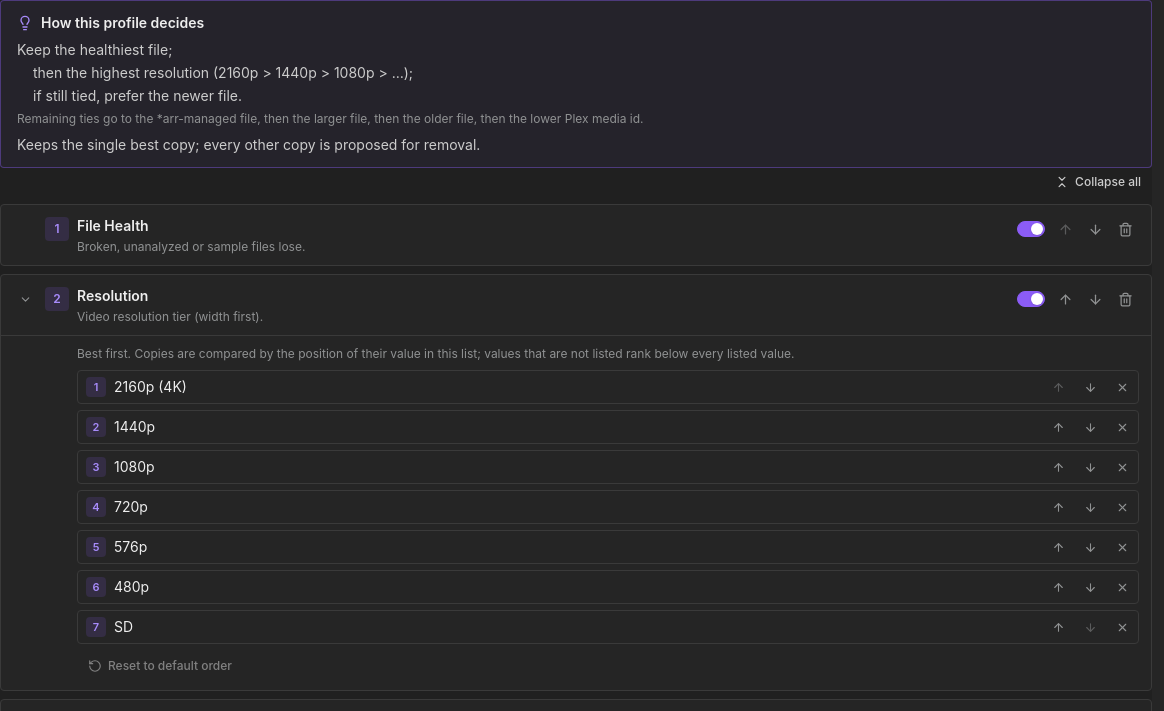
Scenario: <CriteriaBuilder> › ordered editor › reorders values and resets to the default order
The image size is (1164, 711).
Expected: the button "Reset to default order" is disabled, [77,652,243,680]
Click the button named "Move 1080p up".
click(1058, 467)  # box [1046,455,1070,479]
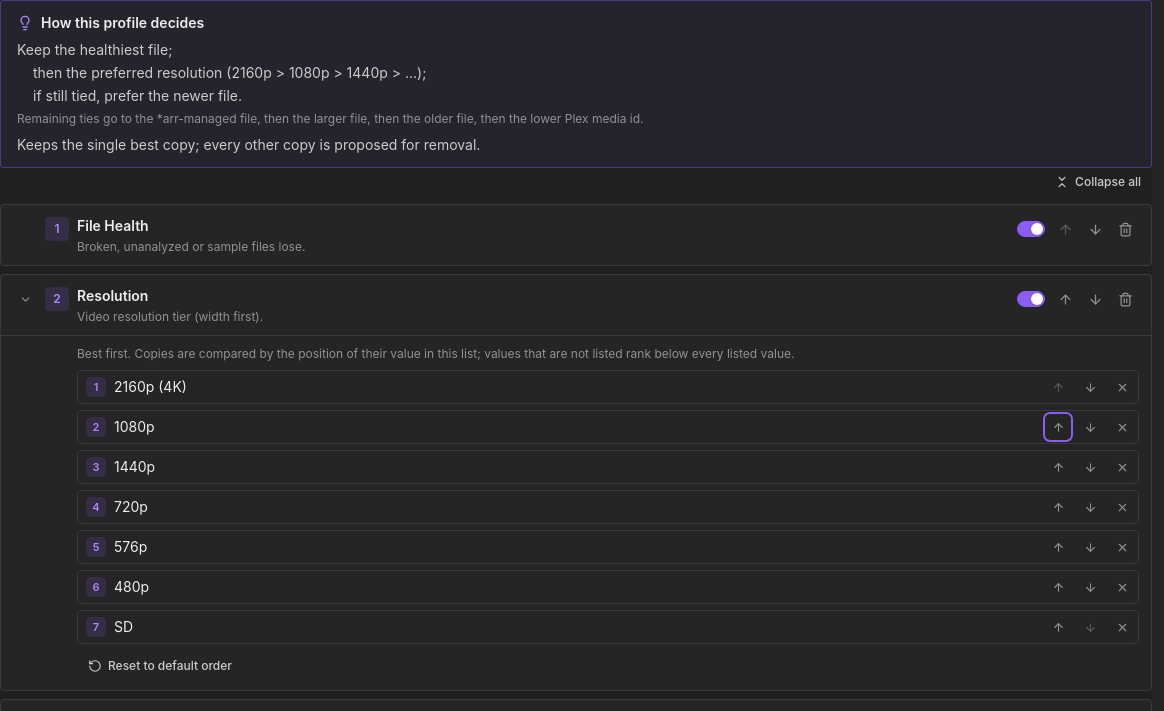
Click the button named "Move 1080p up".
click(1058, 427)  # box [1046,415,1070,439]
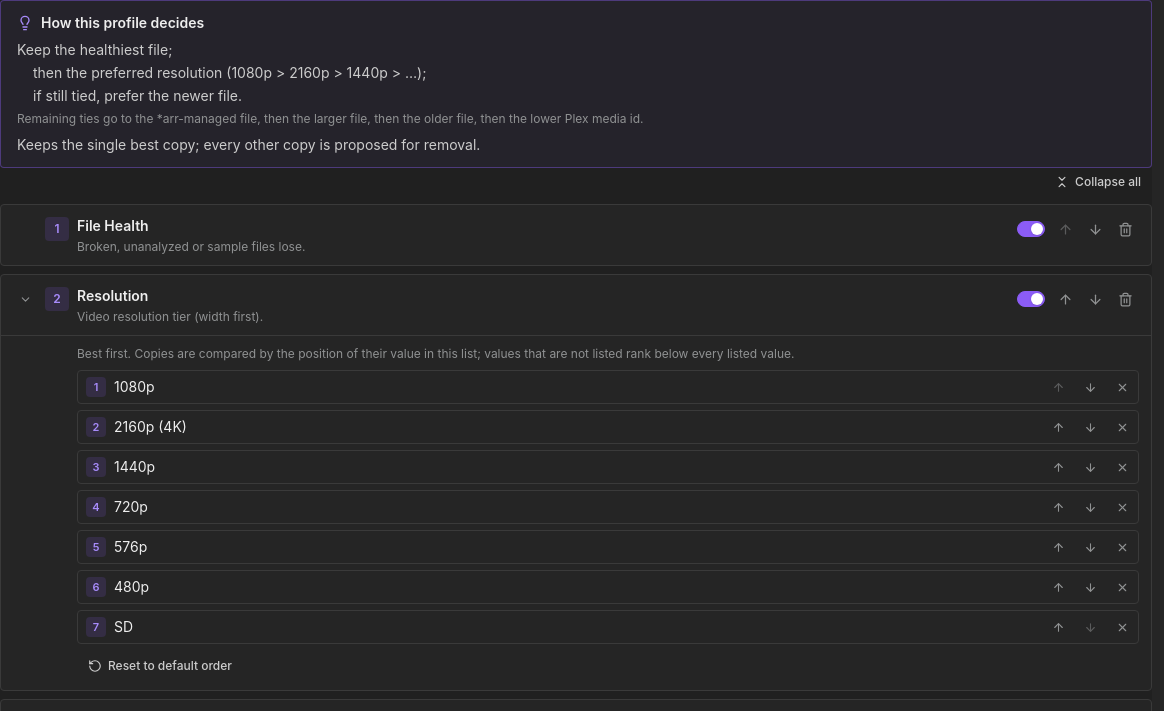
Result: the button "Reset to default order" is enabled
Result: the element that starts with "Keep the healthiest file" shows "then the preferred resolution (1080p > 2160p > 1440p > …)" at [33,64,422,81]
Click the button "Reset to default order".
click(160, 666)  # box [77,652,243,680]
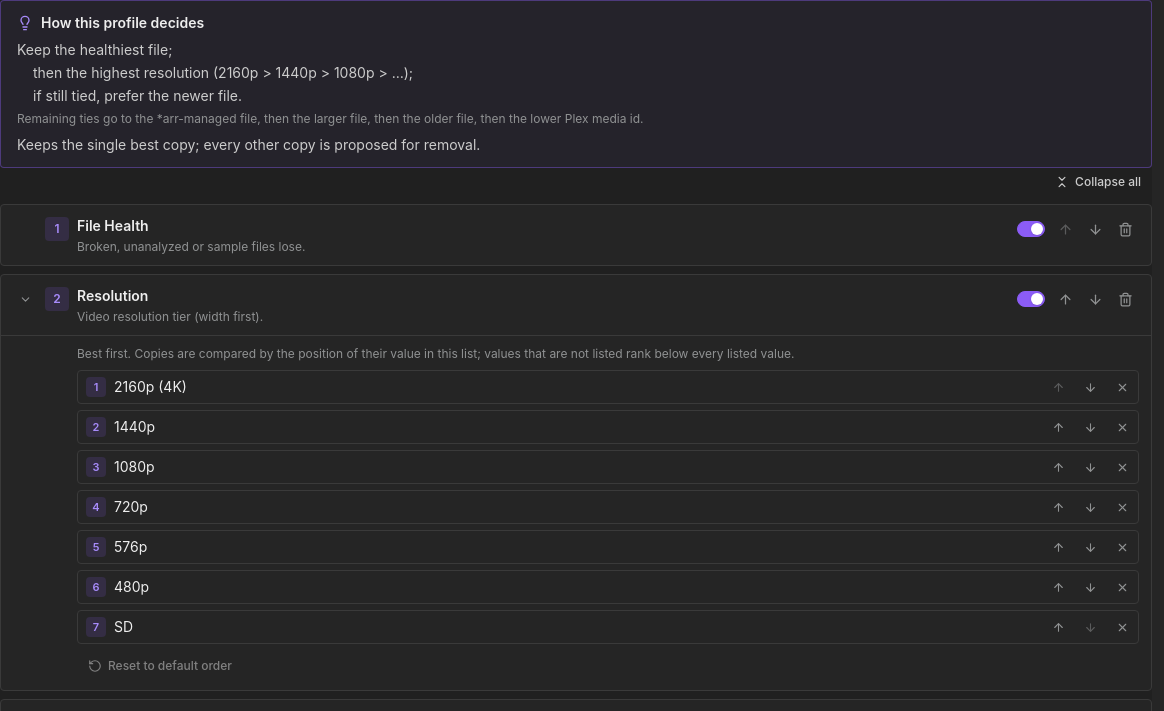
Result: the element that starts with "Keep the healthiest file" shows "then the highest resolution (2160p > 1440p > 1080p > …)" at [33,64,409,81]
